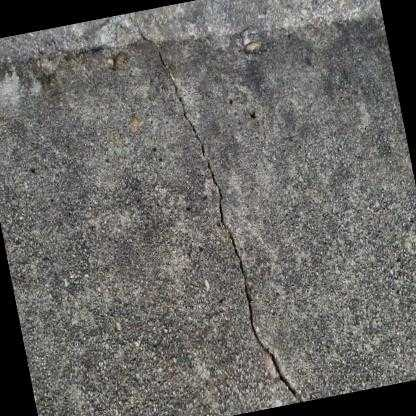crack: (127, 12, 302, 402)
